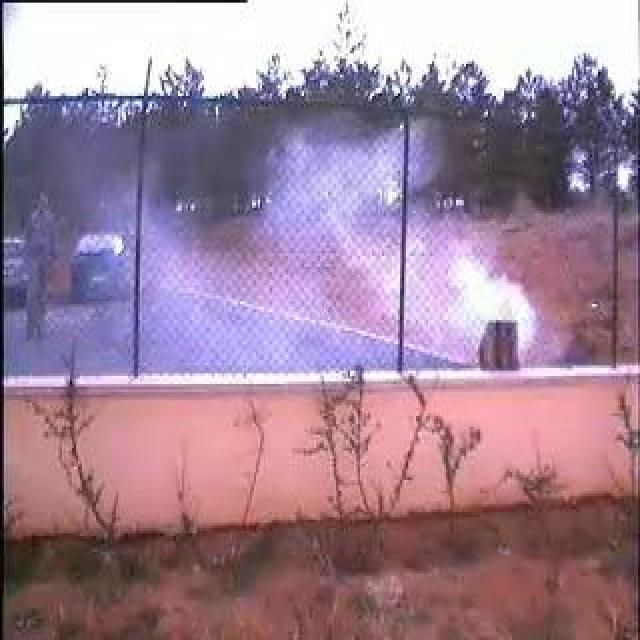Smoke: (265, 144, 529, 368)
